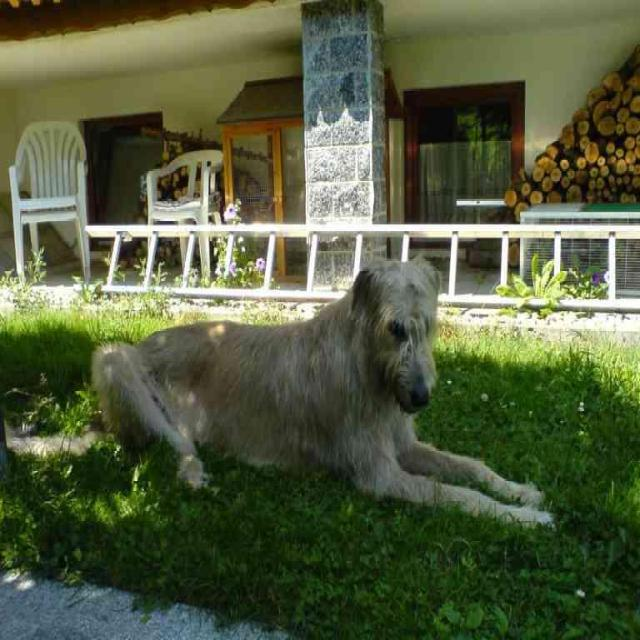irish_wolfhound: (91, 256, 553, 531)
